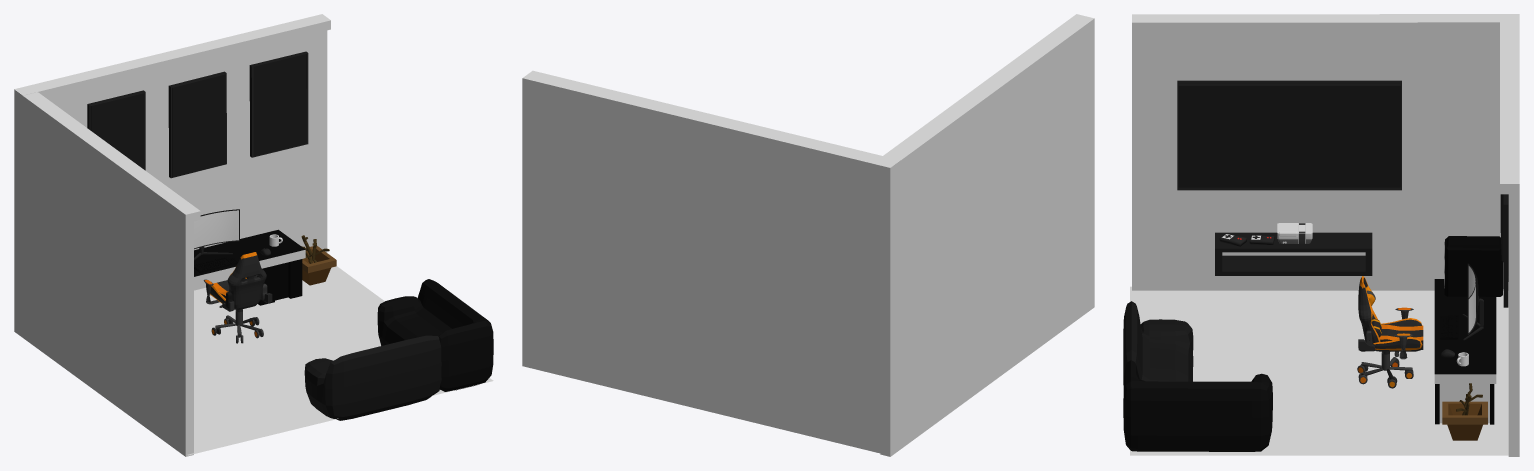
The model's file is fbx_cenrio_final.fbx.
3 views of the same model, side by side, from view 1: azimuth 30°, elevation 25°; view 2: azimuth 150°, elevation 25°; view 3: azimuth 270°, elevation 25° (orthographic). The views are drawn at different scales.
Visible parts, largest first — view 1: Cube.001, Cube, Plane, Cube.002, Cube.003, Cube.013, Cube.011, Cube.005, Cube.010, Cube.012, Cube.008, Cube.014; view 2: Cube, Cube.001; view 3: Cube.001, Plane, Cube.007, Cube.003, Cube, Cube.005, Cube.009, Cube.002, Cube.012, Circle.002, Cube.014, Cube.008 (+3 smaller).
Boxes of the visible parts, x1,y1,x2,y2 form: Cube.001: (14,90,200,456); Cube: (14,14,330,290); Plane: (187,266,493,455); Cube.002: (304,335,441,420); Cube.003: (377,279,493,391); Cube.013: (249,51,308,157); Cube.011: (168,71,226,178); Cube.005: (194,229,305,305); Cube.010: (87,90,145,170); Cube.012: (203,252,272,343); Cube.008: (194,209,239,260); Cube.014: (302,246,336,285); Cube: (522,70,900,455); Cube.001: (880,14,1094,456); Cube.001: (1132,14,1508,290); Plane: (1130,286,1508,455); Cube.007: (1177,80,1401,190); Cube.003: (1123,360,1272,451); Cube: (1500,14,1519,456); Cube.005: (1434,279,1496,424); Cube.009: (1215,232,1372,275); Cube.002: (1123,301,1193,384); Cube.012: (1357,276,1423,388); Circle.002: (1444,236,1503,296); Cube.014: (1442,401,1487,440); Cube.008: (1462,263,1483,340).
Size of the model in its own units: 1475 by 1121 by 1450.
